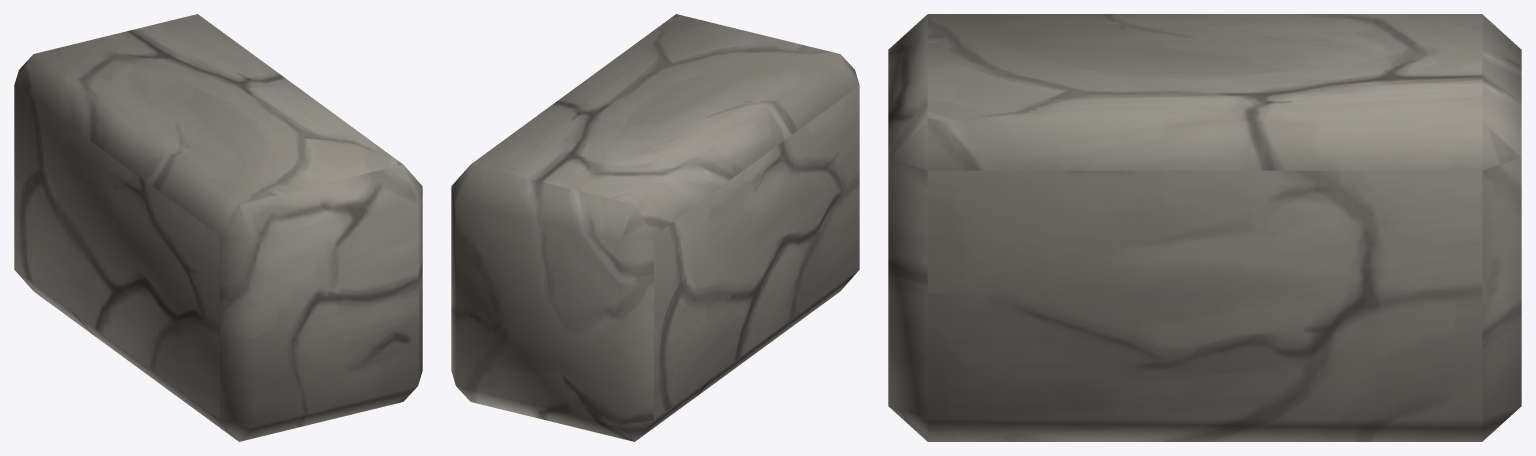
The model's file is brick.FBX.
3 renders of one model, left to right at view 1: azimuth 30°, elevation 25°; view 2: azimuth 150°, elevation 25°; view 3: azimuth 270°, elevation 25°, orthographic. The views are drawn at different scales.
Visible parts, largest first — view 1: Box023; view 2: Box023; view 3: Box023.
Part boxes in pixels (x1=…): Box023: x1=14, y1=14, x2=422, y2=441; Box023: x1=451, y1=14, x2=859, y2=441; Box023: x1=888, y1=14, x2=1521, y2=441.
Size of the model in its own units: 4.21 by 4.71 by 8.45.
Materials: 1 (1 with a texture image).
